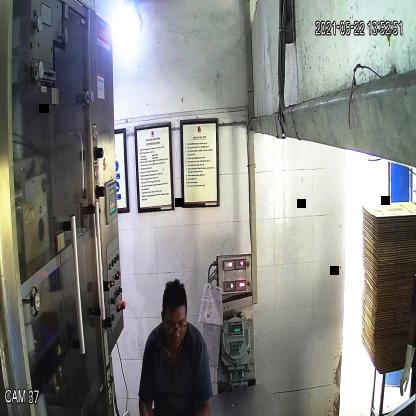goggles: (161, 312, 187, 340)
